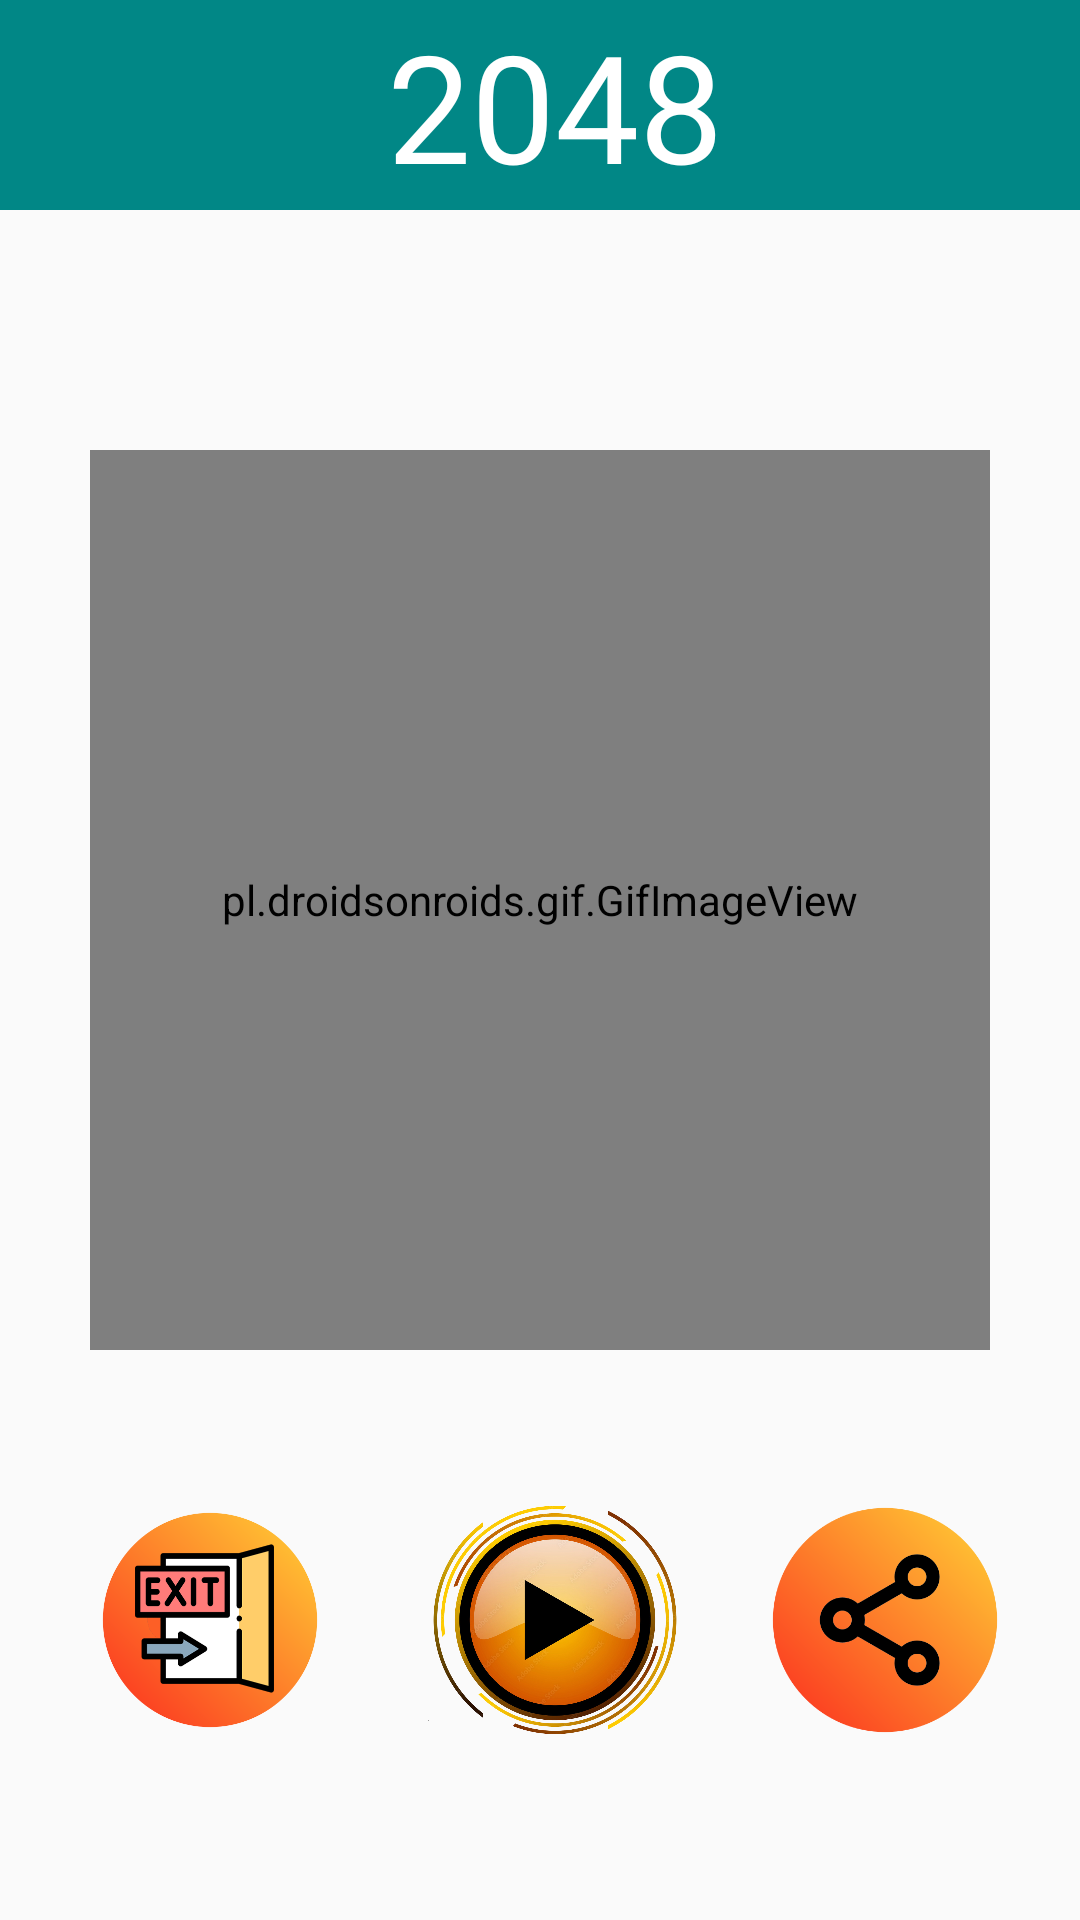

Named icons in this screenshot (1080px×1920px) and their centers, point (x, y):
play: point (552, 1620)
share: point (885, 1620)
